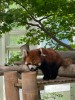redPanda: (20, 47, 70, 80)
